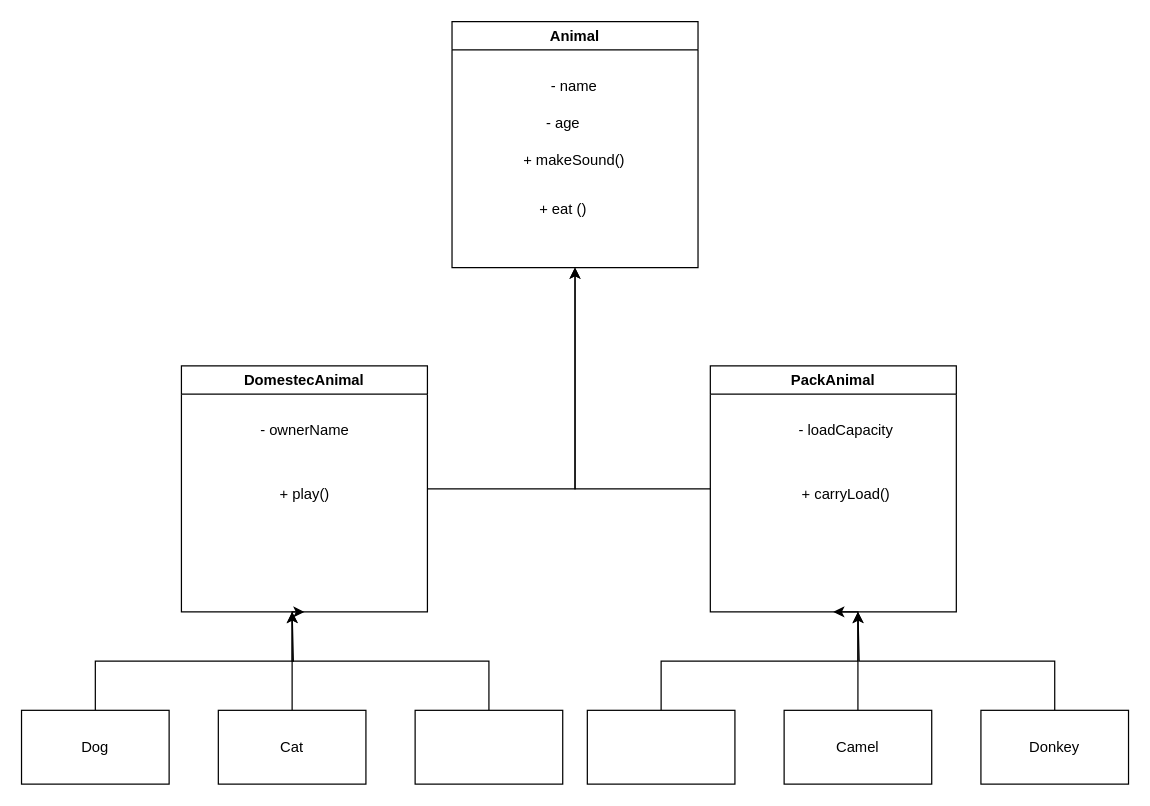
The diagram is 1150 pixels wide and 806 high, and some of its shapes have lost their labels. The centre of each missing label's shape, as x and y in pixels:
Hamster: the point at 488,746
Horse: the point at 660,746
